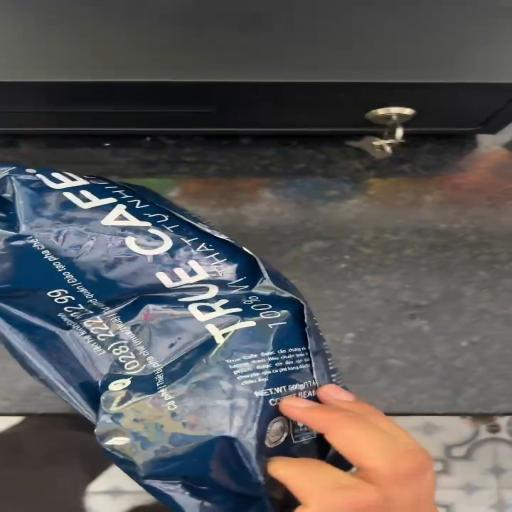cafe_hat: (0, 166, 340, 512)
